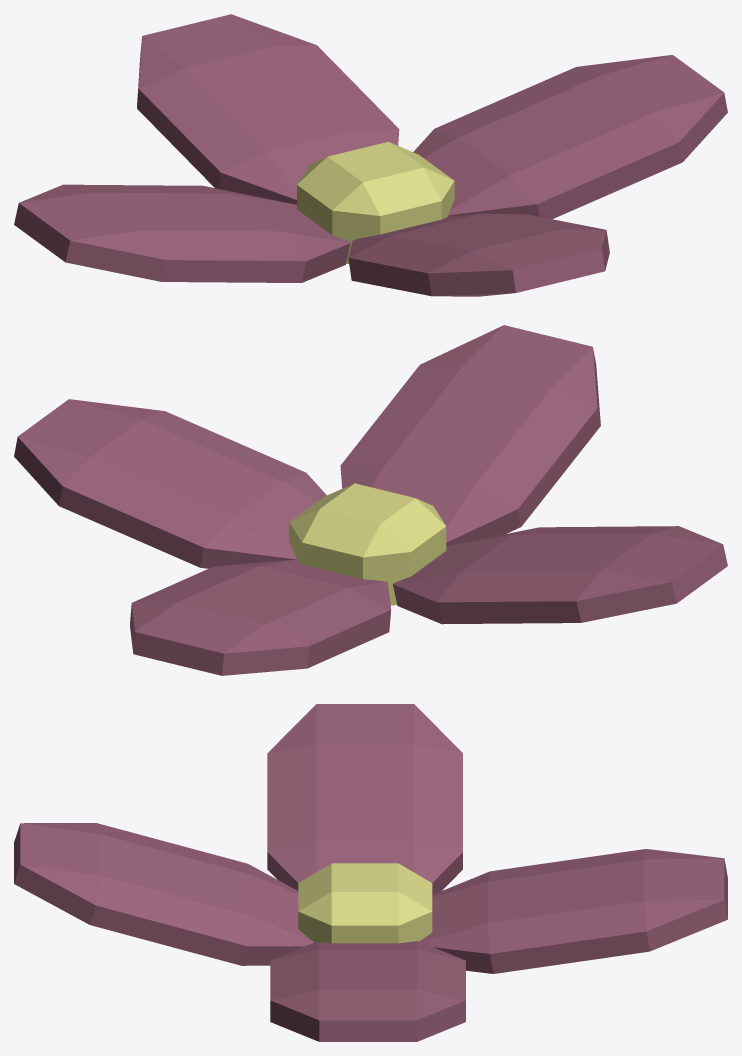
The model's file is CactesFlower.fbx.
The picture shows the model from 3 angles, top to bottom: view 1: azimuth 30°, elevation 25°; view 2: azimuth 150°, elevation 25°; view 3: azimuth 270°, elevation 25°; orthographic projection. The views are drawn at different scales.
Visible parts, largest first — view 1: pasted__pasted__pCube1, pasted__pasted__pasted__pasted__pCube1, pasted__pasted__pasted__pCube1, pasted__pCube1, pCube1; view 2: pasted__pCube1, pasted__pasted__pCube1, pasted__pasted__pasted__pCube1, pasted__pasted__pasted__pasted__pCube1, pCube1; view 3: pasted__pasted__pasted__pCube1, pasted__pasted__pasted__pasted__pCube1, pasted__pCube1, pasted__pasted__pCube1, pCube1.
Boxes of the visible parts, box(x1,y1,x2,y2) form: pasted__pasted__pCube1: box(413, 55, 727, 219); pasted__pasted__pasted__pasted__pCube1: box(137, 14, 399, 204); pasted__pasted__pasted__pCube1: box(14, 184, 350, 282); pasted__pCube1: box(348, 213, 609, 296); pCube1: box(297, 141, 454, 263); pasted__pCube1: box(340, 325, 600, 545); pasted__pasted__pCube1: box(14, 399, 326, 568); pasted__pasted__pasted__pCube1: box(392, 526, 727, 624); pasted__pasted__pasted__pasted__pCube1: box(130, 560, 391, 675); pCube1: box(289, 483, 446, 605); pasted__pasted__pasted__pCube1: box(267, 704, 462, 894); pasted__pasted__pasted__pasted__pCube1: box(419, 849, 727, 973); pasted__pCube1: box(14, 823, 313, 965); pasted__pasted__pCube1: box(270, 941, 465, 1041); pCube1: box(298, 863, 432, 943).
Bounding box in the file's own units: 12.87 × 2 × 12.61.
